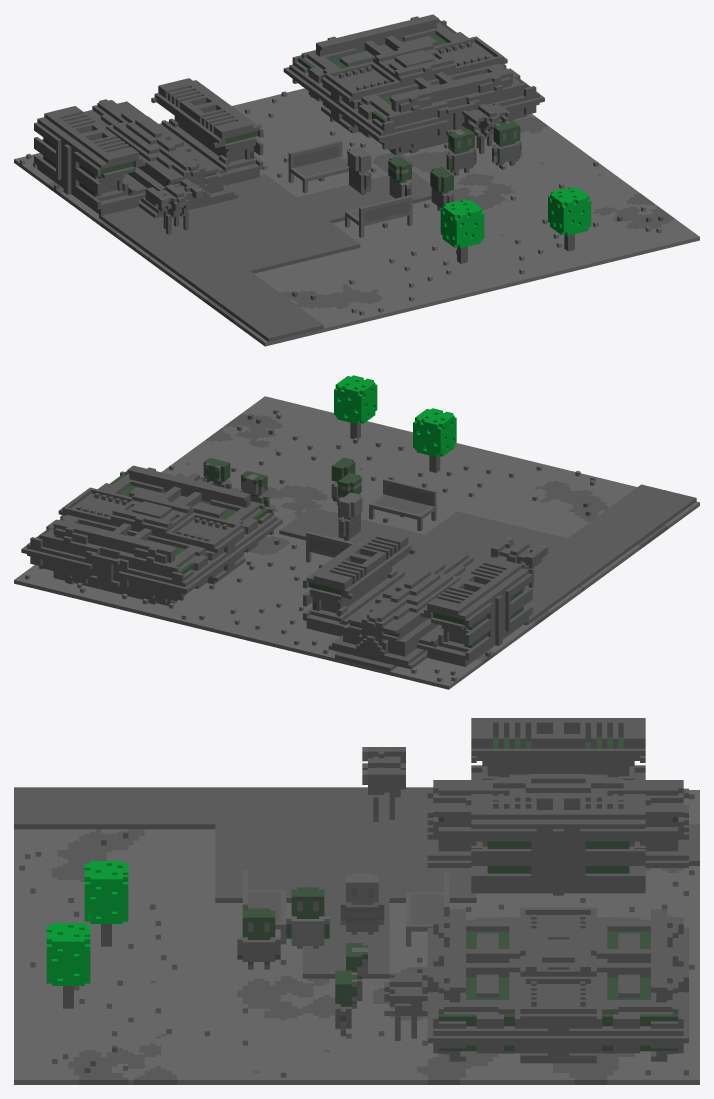
The model's file is scene_park3.obj.
The picture shows the model from 3 angles, top to bottom: view 1: azimuth 30°, elevation 25°; view 2: azimuth 150°, elevation 25°; view 3: azimuth 270°, elevation 25°; orthographic projection. The views are drawn at different scales.
Bounding box in the file's own units: 126 × 17 × 126.
